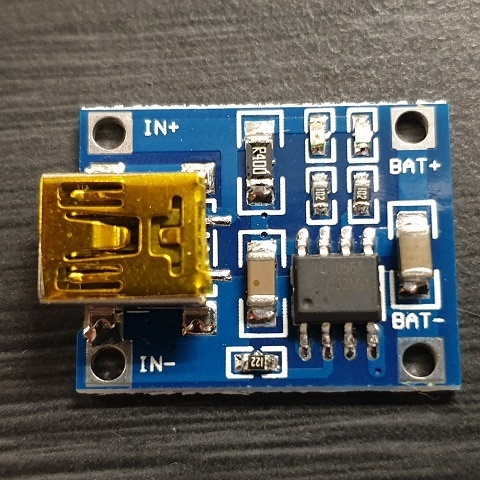batt+: (397, 110, 432, 150)
batt-: (394, 338, 444, 386)
charge: (309, 107, 332, 162)
done: (337, 100, 372, 162)
rprog: (221, 346, 297, 376)
usb: (32, 174, 208, 306)
